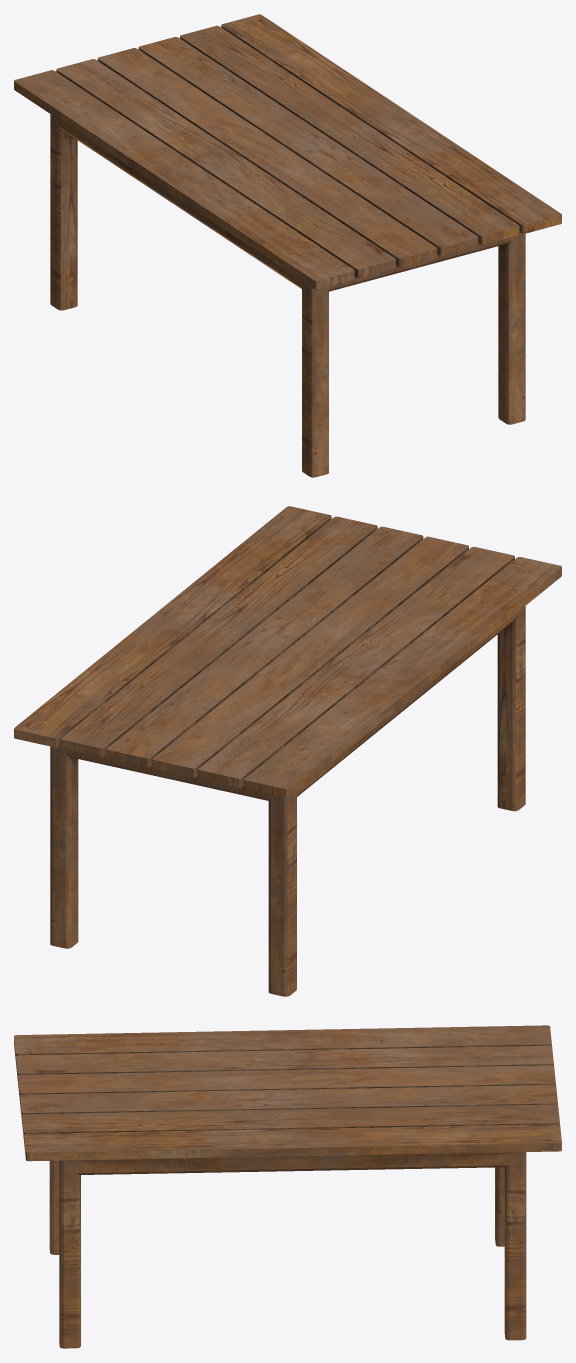
File: Desk.fbx
3 views of the same model, one above another, from view 1: azimuth 30°, elevation 25°; view 2: azimuth 150°, elevation 25°; view 3: azimuth 270°, elevation 25° (orthographic). The views are drawn at different scales.
Visible parts, largest first — view 1: Desk, Cube; view 2: Desk, Cube; view 3: Desk, Cube.
Part boxes in pixels (x1=…): Desk: x1=14, y1=14, x2=561, y2=289; Cube: x1=50, y1=114, x2=525, y2=477; Desk: x1=14, y1=506, x2=561, y2=798; Cube: x1=50, y1=606, x2=525, y2=996; Desk: x1=14, y1=1025, x2=561, y2=1161; Cube: x1=49, y1=1152, x2=526, y2=1348.
Bounding box in the file's own units: 133 × 99.22 × 242.
Materials: 1 (1 with a texture image).
